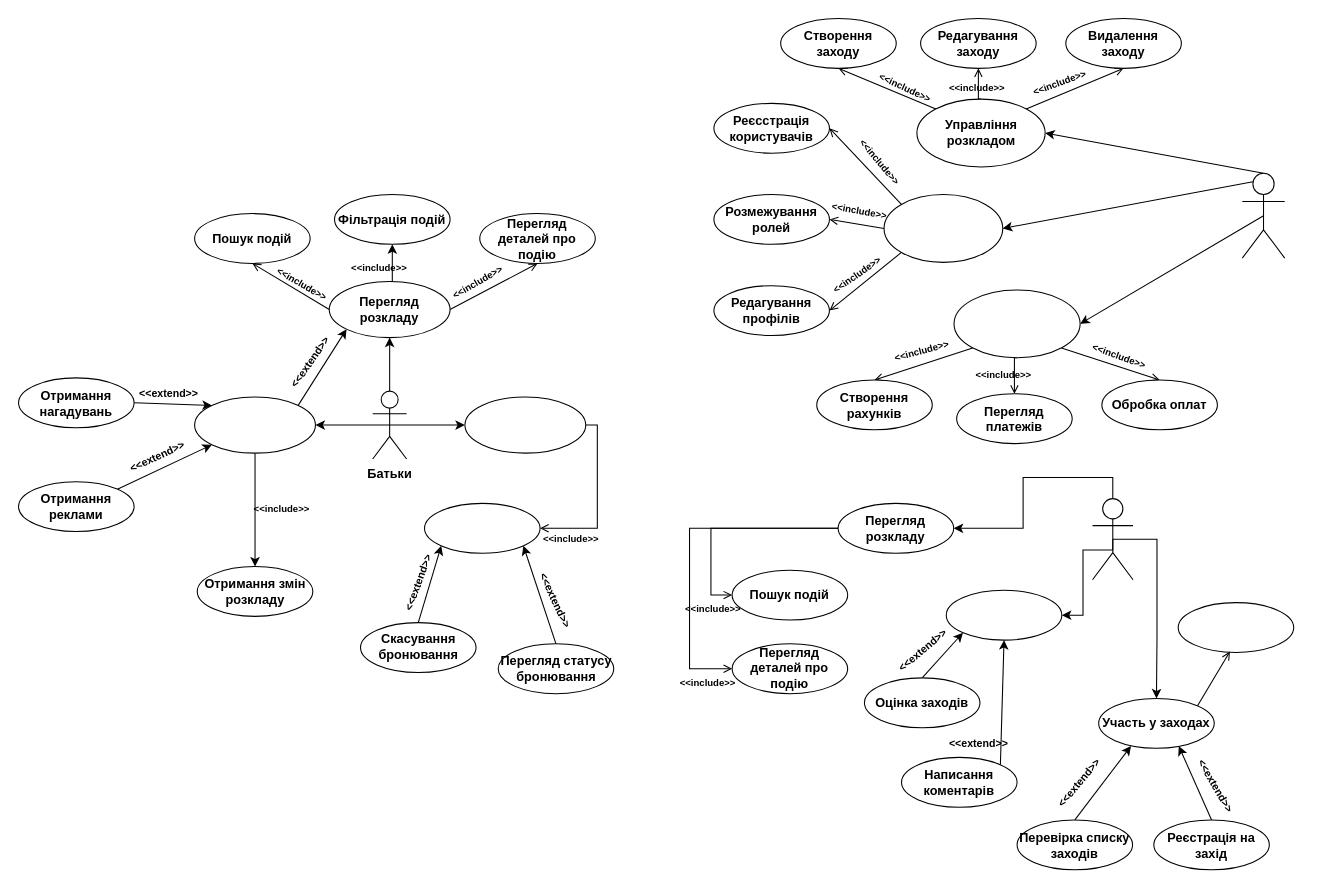
Image size: 1327x888. Some labels were removed from this diagram. The centre of each missing label's shape, as x and y in pixels:
"Адміністратор" goes at point 1263,215.
"Бронювання заходів" goes at point 525,424.
"Бронювання місць" goes at point 481,527.
"Діти" goes at point 1112,539.
"Залишення відгуків" goes at point 1003,614.
"Отримання нотифікацій" goes at point 254,424.
"Перегляд статусу участі" goes at point 1235,627.
"Управління користувачами" goes at point 943,227.
"Управління платежами" goes at point 1016,323.
